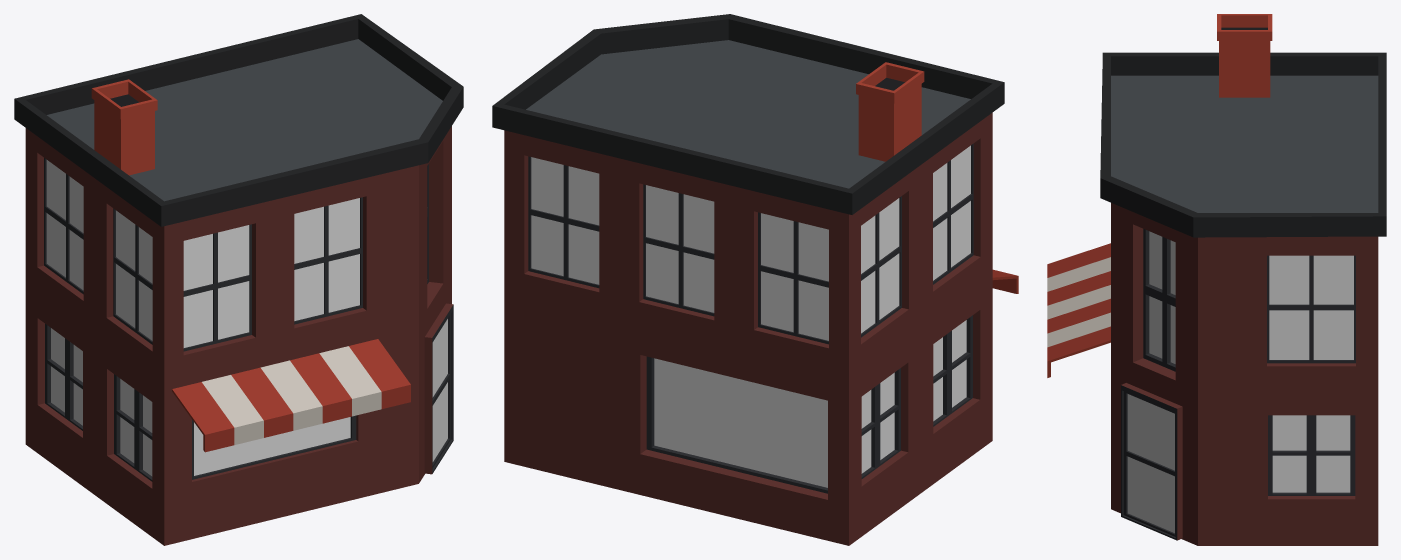
File: shop.glb
3 renders of one model, left to right at view 1: azimuth 30°, elevation 25°; view 2: azimuth 150°, elevation 25°; view 3: azimuth 270°, elevation 25°, orthographic. The views are drawn at different scales.
Visible parts, largest first — view 1: SM_hostel_01_B; view 2: SM_hostel_01_B; view 3: SM_hostel_01_B.
Boxes of the visible parts, x1,y1,x2,y2 form: SM_hostel_01_B: (14, 14, 463, 545); SM_hostel_01_B: (492, 14, 1018, 545); SM_hostel_01_B: (1047, 14, 1386, 545).
Size of the model in its own units: 6.9 by 7.43 by 6.
2 materials, 1 textured.
